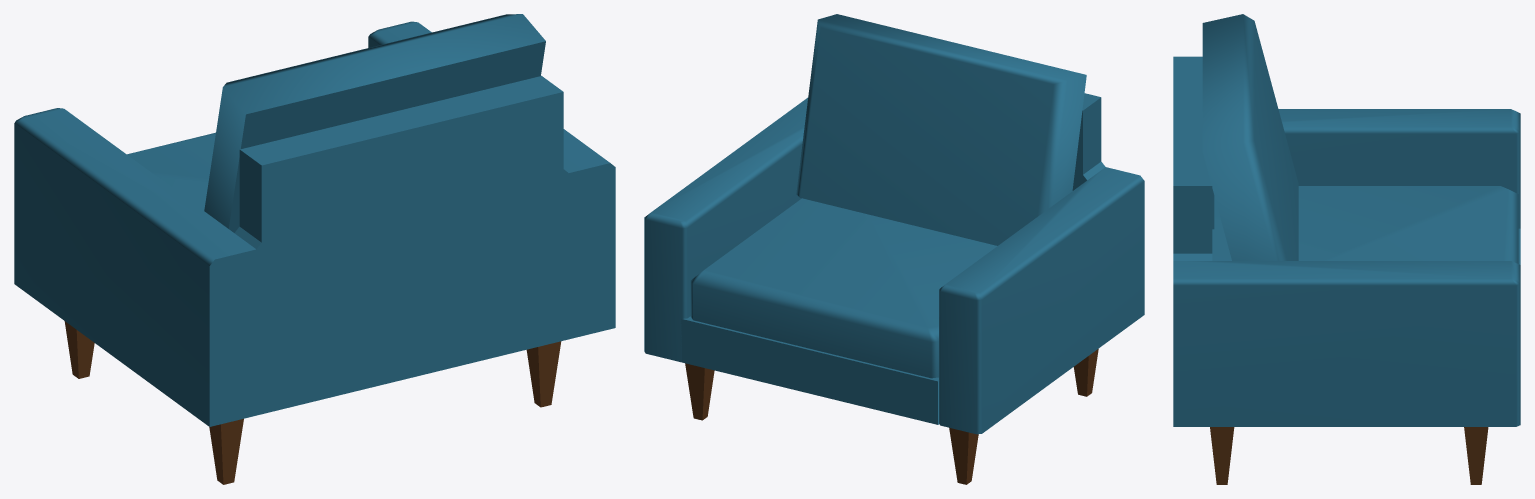
Rendered from bluechair.glb.
3 views of the same model, side by side, from view 1: azimuth 30°, elevation 25°; view 2: azimuth 150°, elevation 25°; view 3: azimuth 270°, elevation 25° (orthographic). The views are drawn at different scales.
Visible parts, largest first — view 1: Armchair_lambert1_0.001; view 2: Armchair_lambert1_0.001; view 3: Armchair_lambert1_0.001.
Boxes of the visible parts, x1,y1,x2,y2 form: Armchair_lambert1_0.001: [14, 14, 615, 484]; Armchair_lambert1_0.001: [644, 14, 1144, 484]; Armchair_lambert1_0.001: [1173, 14, 1520, 484].
Size of the model in its own units: 0.3289 by 0.2967 by 0.2774.
1 material, 1 textured.
